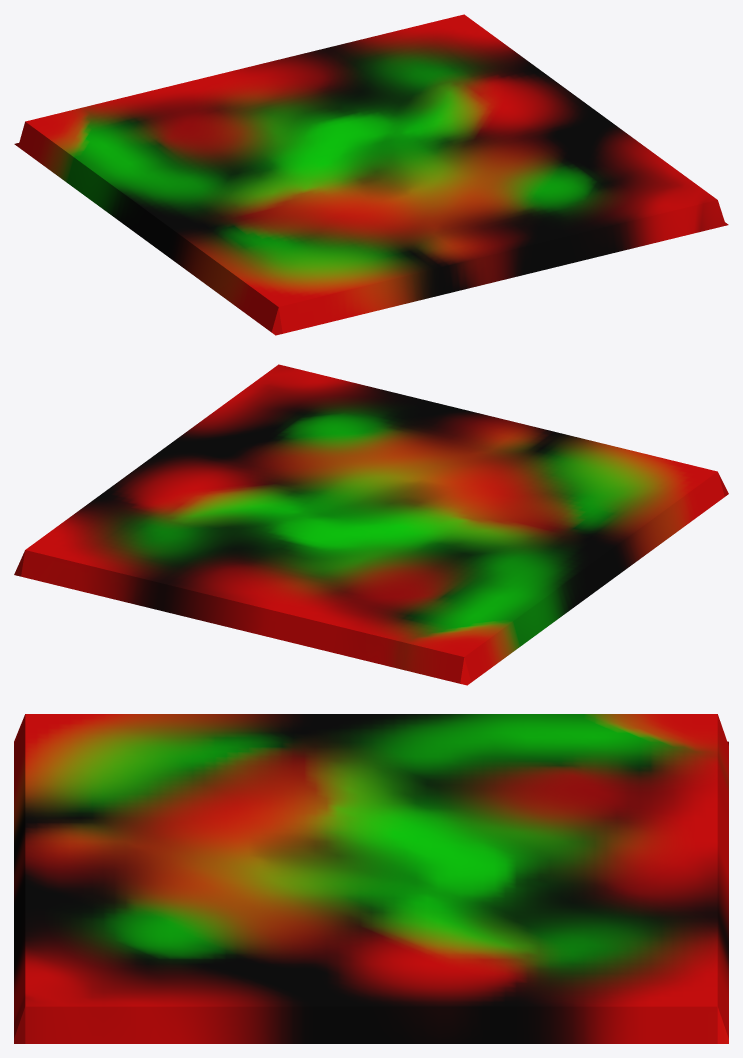
The model's file is landscape_cave.gltf.
3 views of the same model, one above another, from view 1: azimuth 30°, elevation 25°; view 2: azimuth 150°, elevation 25°; view 3: azimuth 270°, elevation 25° (orthographic). The views are drawn at different scales.
Visible parts, largest first — view 1: Plane; view 2: Plane; view 3: Plane.
Boxes of the visible parts, <box> form: Plane: <box>14,14,728,335</box>; Plane: <box>14,364,728,685</box>; Plane: <box>14,714,728,1043</box>.
Size of the model in its own units: 20 by 1 by 20.
